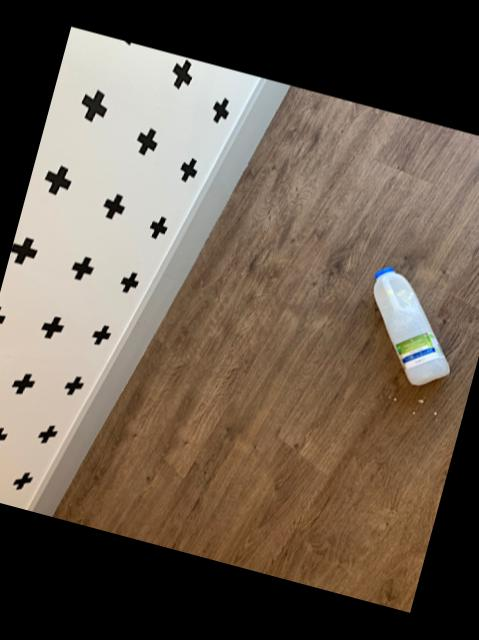plastic: (370, 268, 445, 386)
